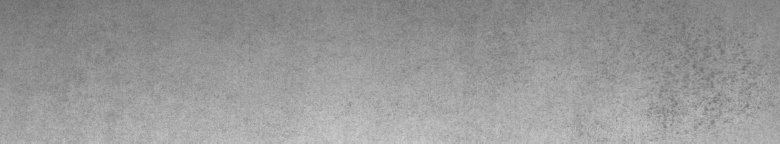ib: (664, 44, 763, 128)
